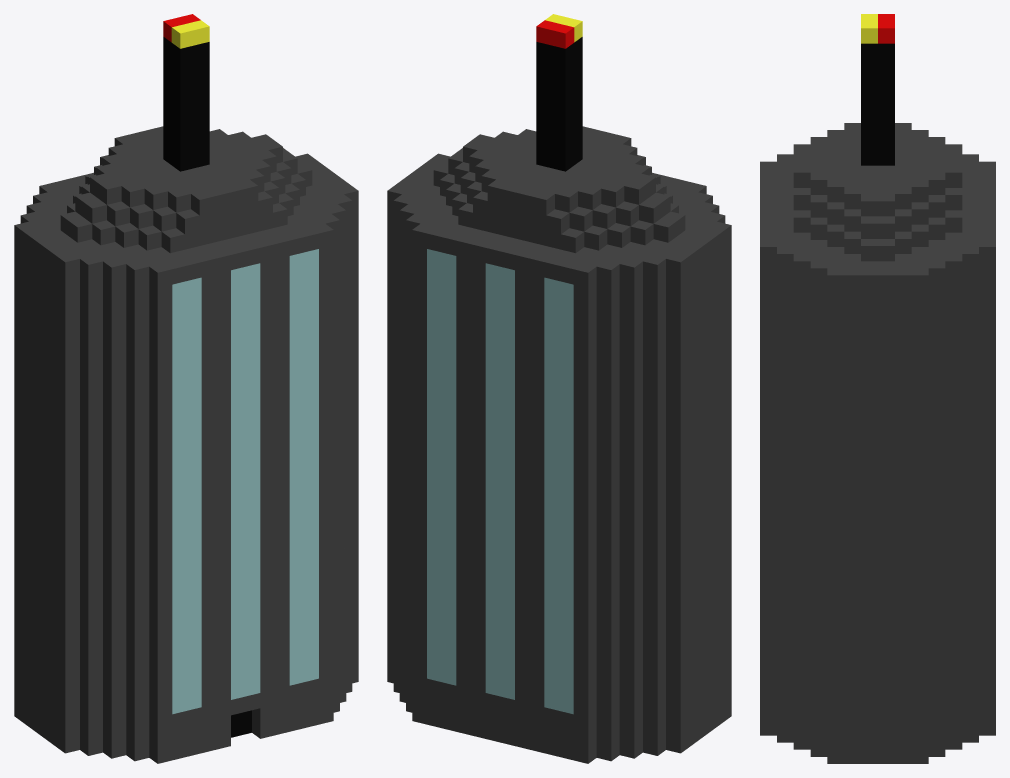
File: bld4.fbx
The picture shows the model from 3 angles, left to right: view 1: azimuth 30°, elevation 25°; view 2: azimuth 150°, elevation 25°; view 3: azimuth 270°, elevation 25°; orthographic projection.
Parts seen in each view (by area): view 1: Cube.001; view 2: Cube.001; view 3: Cube.001.
Part boxes in pixels (left/top/right/bottom): Cube.001: left=14, top=14, right=358, bottom=763; Cube.001: left=387, top=14, right=731, bottom=763; Cube.001: left=760, top=14, right=995, bottom=763.
Bounding box in the file's own units: 2000 × 4400 × 1400.
